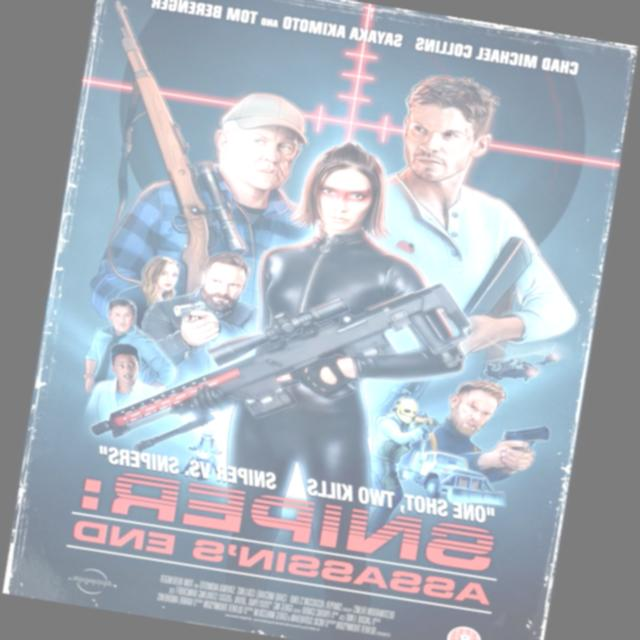rifle: (81, 214, 502, 516)
